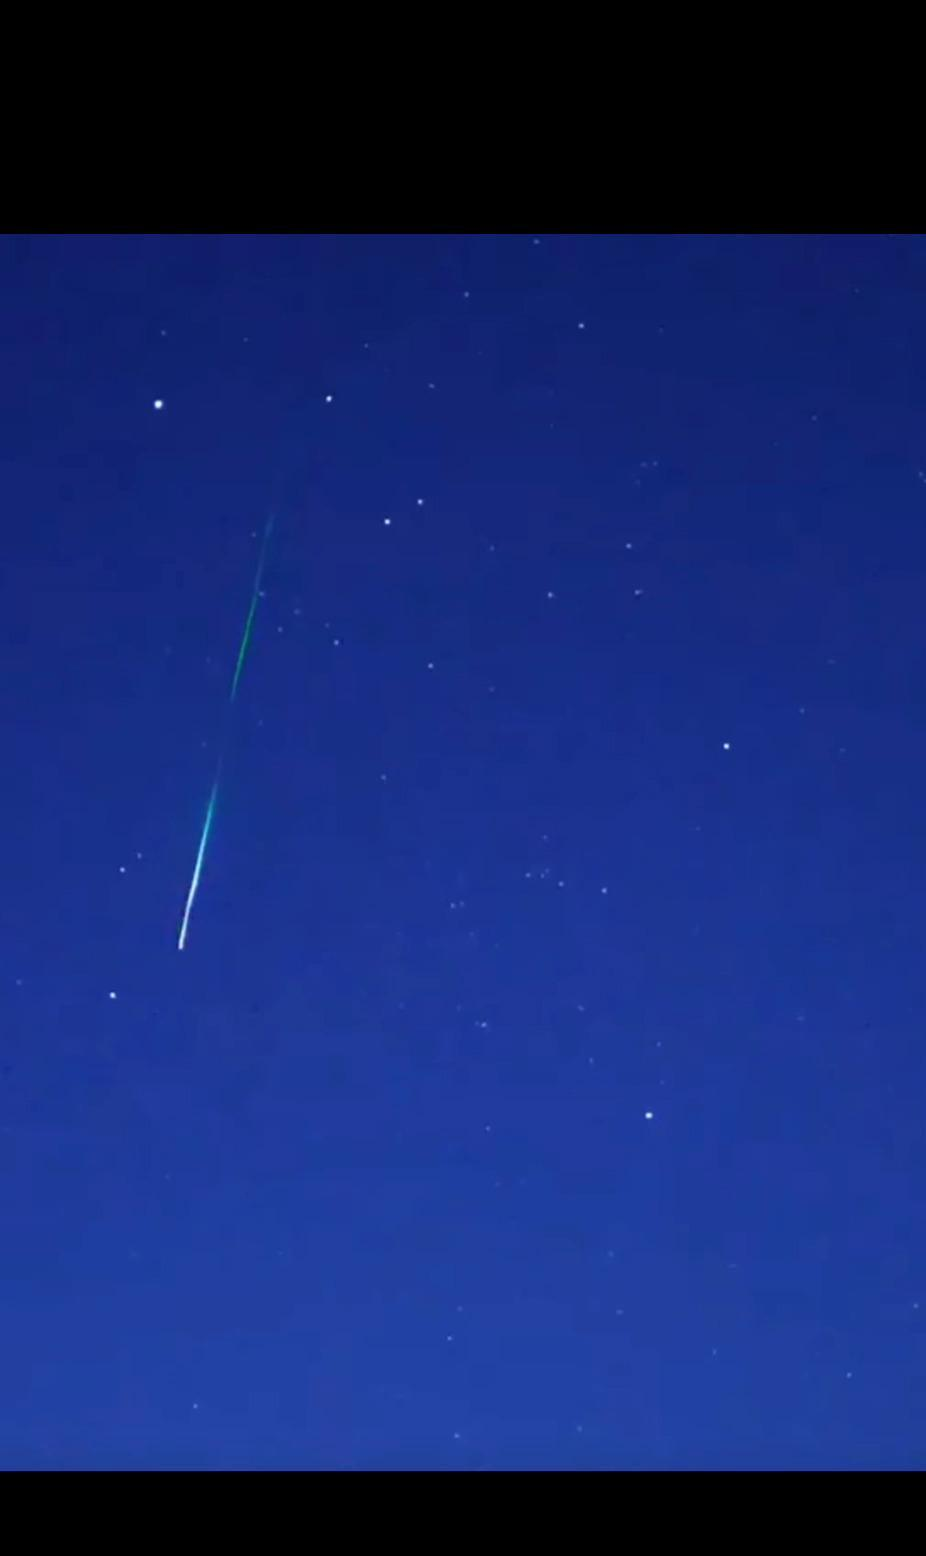meteorite: (161, 545, 291, 937)
